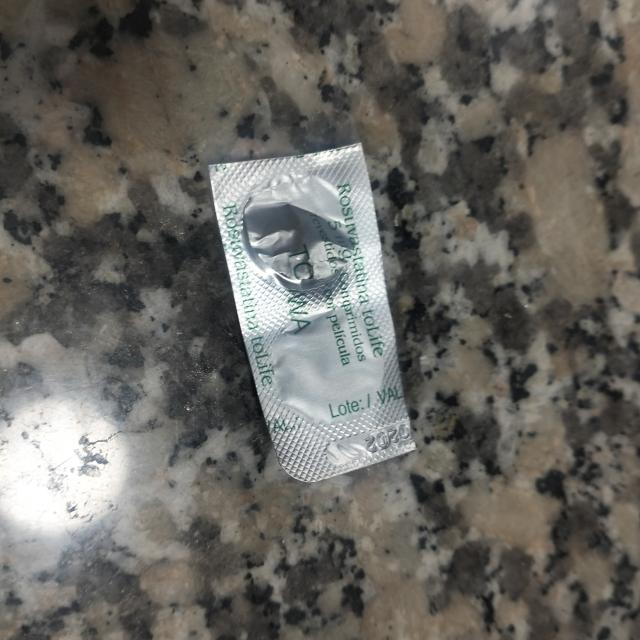blister: (208, 140, 417, 483)
